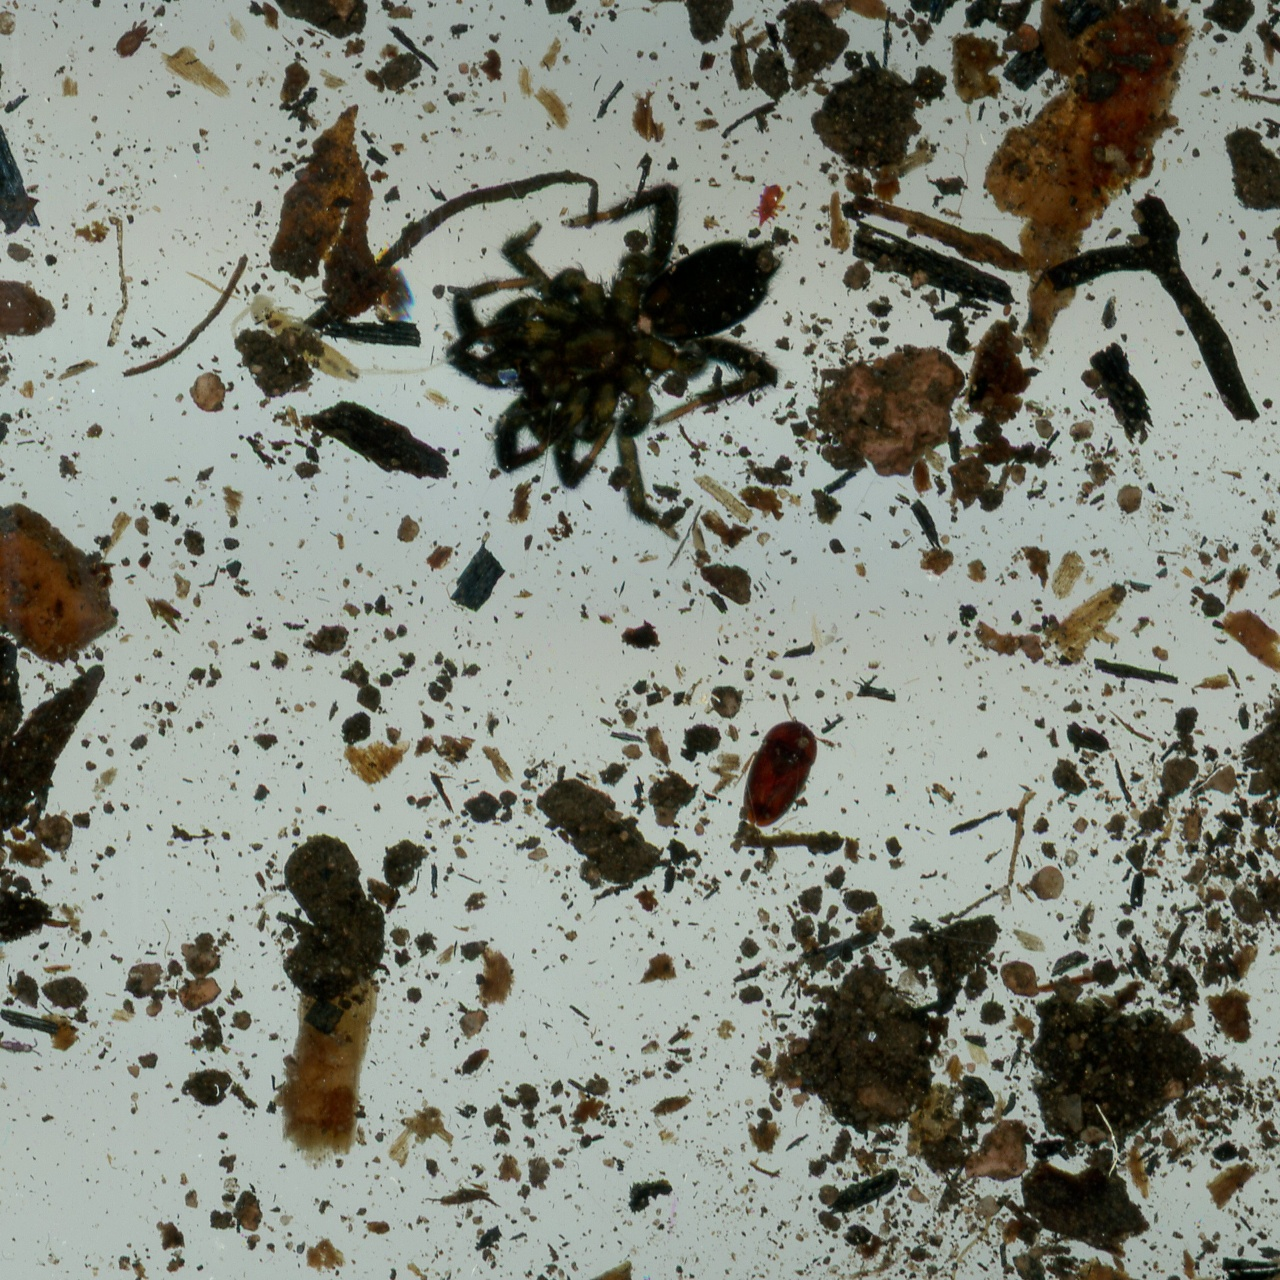arthropod: (394, 136, 870, 597), (227, 290, 456, 395), (744, 177, 794, 236), (0, 1035, 45, 1058)
